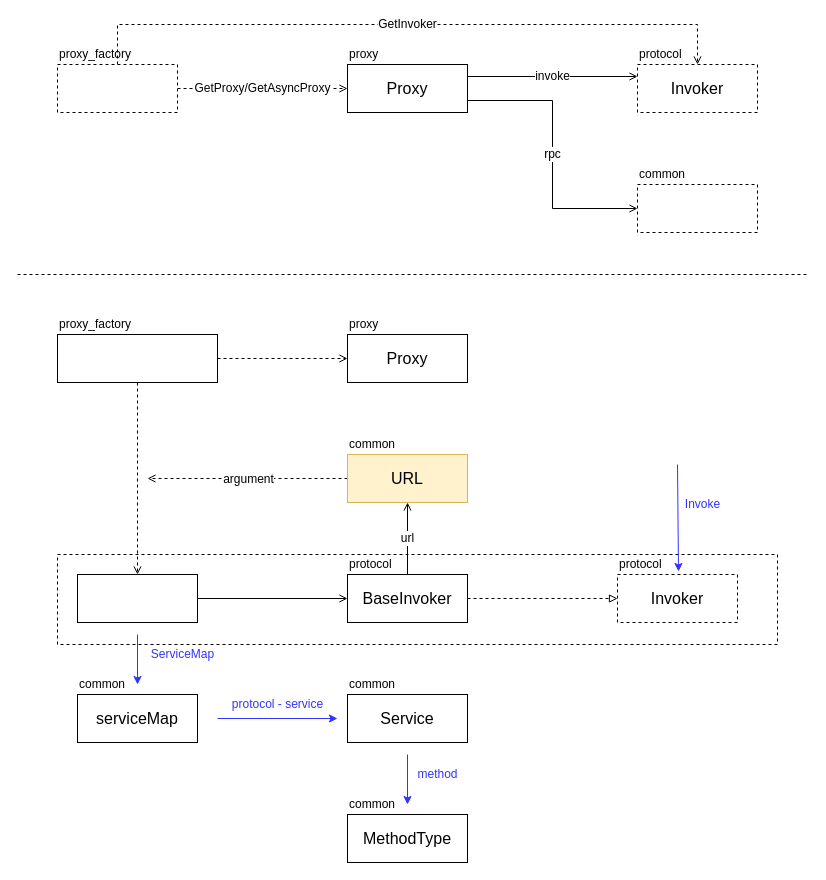
Some shapes in this 826 by 880 pixel diagram are drawn without their labels. Each missing label, with the centre of its shape:
DefaultProxyFactory: the point at 137,358
ProxyFactory: the point at 117,88
ProxyInvoker: the point at 137,598
RPCService: the point at 697,208
